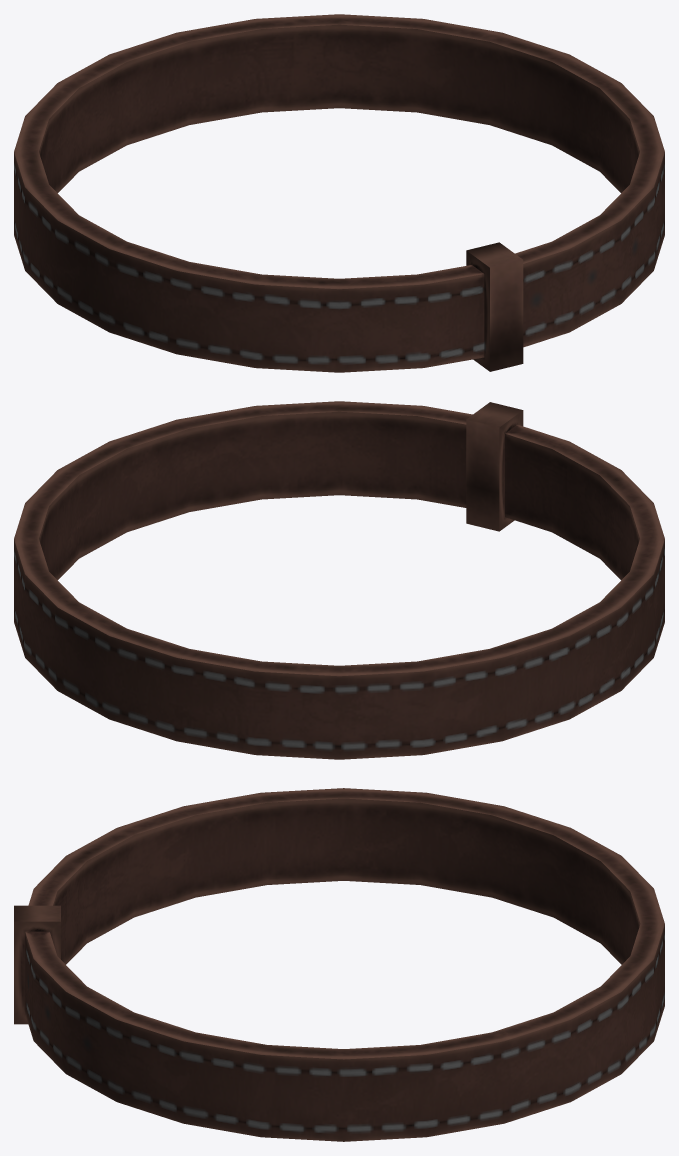
The model's file is FullStrap_Large.fbx.
3 views of the same model, one above another, from view 1: azimuth 30°, elevation 25°; view 2: azimuth 150°, elevation 25°; view 3: azimuth 270°, elevation 25° (orthographic).
Visible parts, largest first — view 1: FullStrap_Large_LOD0; view 2: FullStrap_Large_LOD0; view 3: FullStrap_Large_LOD0.
Boxes of the visible parts, left/top/right/bottom form: FullStrap_Large_LOD0: left=14, top=14, right=664, bottom=372; FullStrap_Large_LOD0: left=14, top=401, right=664, bottom=759; FullStrap_Large_LOD0: left=14, top=788, right=664, bottom=1141.
Size of what is drawn, in the model's own units: 89.42 by 15.78 by 90.64.
